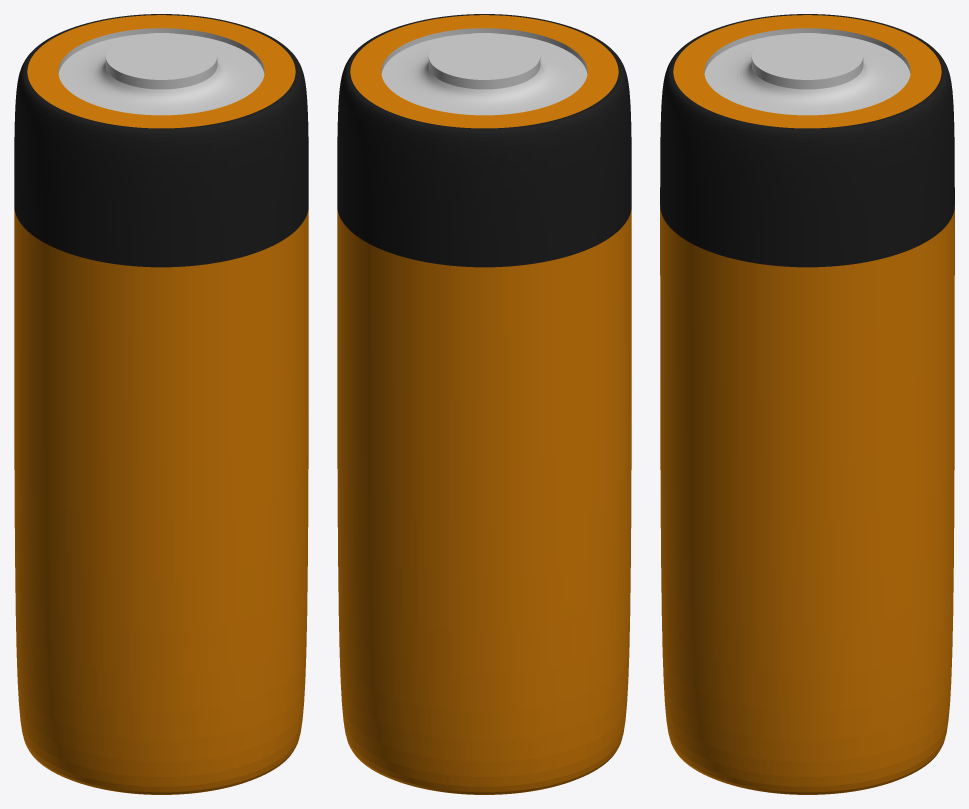
Rendered from Battery.dae.
3 views of the same model, side by side, from view 1: azimuth 30°, elevation 25°; view 2: azimuth 150°, elevation 25°; view 3: azimuth 270°, elevation 25° (orthographic).
Parts seen in each view (by area): view 1: Battery; view 2: Battery; view 3: Battery.
Part boxes in pixels (box(x1,y1,x2,y2)): Battery: box(14, 14, 308, 794); Battery: box(337, 14, 631, 794); Battery: box(660, 14, 954, 794).
Size of the model in its own units: 0.8455 by 0.8455 by 2.19.
